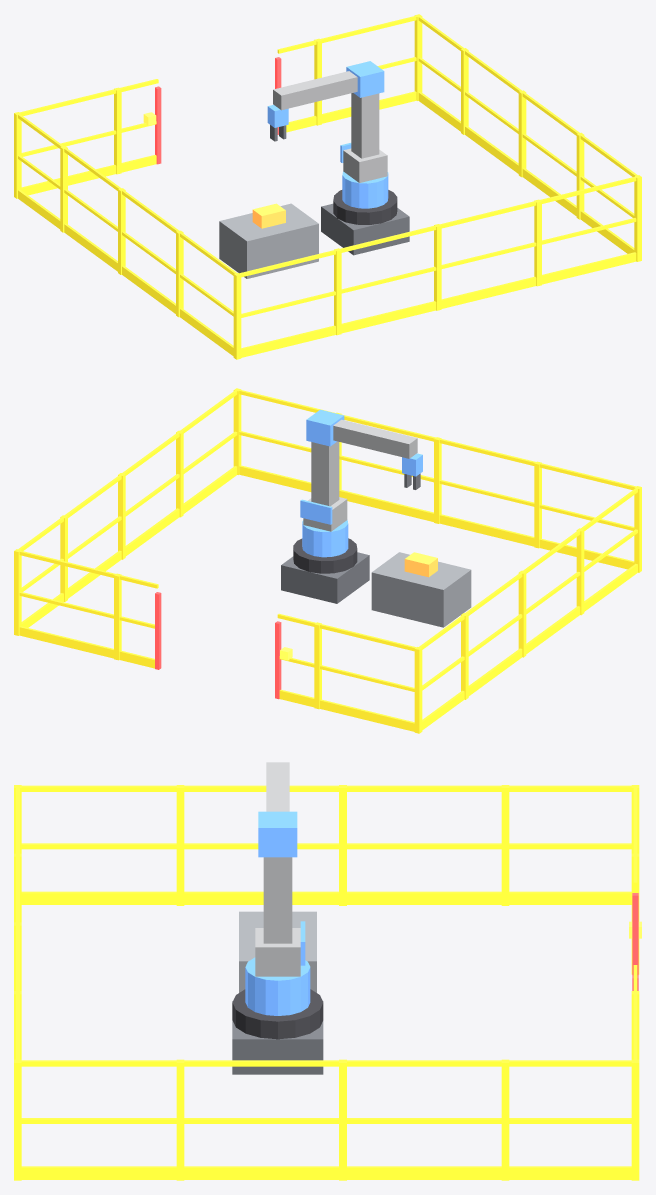
The model's file is wing-robot-hall-robotics.glb.
3 renders of one model, top to bottom at view 1: azimuth 30°, elevation 25°; view 2: azimuth 150°, elevation 25°; view 3: azimuth 270°, elevation 25°, orthographic. The views are drawn at different scales.
Visible parts, largest first — view 1: Robot · industrial articulated arm; view 2: Robot · industrial articulated arm; view 3: Robot · industrial articulated arm.
Boxes of the visible parts, left/top/right/bottom form: Robot · industrial articulated arm: left=14, top=14, right=641, bottom=359; Robot · industrial articulated arm: left=14, top=388, right=641, bottom=733; Robot · industrial articulated arm: left=14, top=762, right=641, bottom=1180.
Size of the model in its own units: 10.12 by 4 by 9.66.
